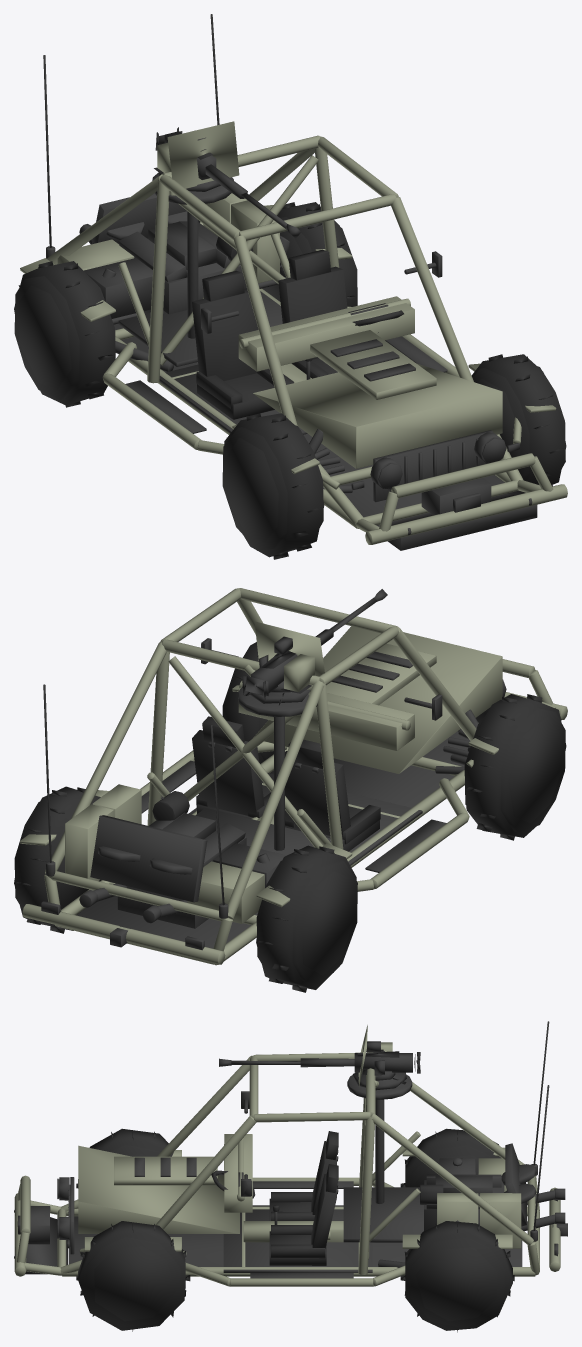
Rendered from buggy.glb.
3 renders of one model, top to bottom at view 1: azimuth 30°, elevation 25°; view 2: azimuth 150°, elevation 25°; view 3: azimuth 270°, elevation 25°, orthographic. The views are drawn at different scales.
Parts seen in each view (by area): view 1: body, wheel_fr, wheel_rr, wheel_fl, mg_turret, wheel_rl, mg_gun; view 2: body, wheel_fr, wheel_rr, wheel_rl, mg_gun, mg_turret, wheel_fl; view 3: body, wheel_rl, wheel_fl, wheel_rr, mg_gun, wheel_fr, mg_turret.
Part boxes in pixels (box(x1,y1,x2,y2)): body: box(20, 14, 567, 550); wheel_fr: box(222, 413, 324, 559); wheel_rr: box(14, 261, 115, 407); wheel_fl: box(471, 354, 566, 494); mg_turret: box(159, 121, 239, 191); wheel_rl: box(262, 202, 357, 306); mg_gun: box(154, 127, 301, 238); body: box(20, 588, 567, 965); wheel_fr: box(464, 694, 566, 840); wheel_rr: box(256, 845, 357, 992); wheel_rl: box(14, 786, 101, 933); mg_gun: box(242, 589, 387, 699); mg_turret: box(244, 621, 324, 705); wheel_fl: box(222, 642, 273, 772); body: box(14, 1021, 567, 1286); wheel_rl: box(400, 1221, 514, 1332); wheel_fl: box(76, 1221, 190, 1331); wheel_rr: box(400, 1128, 501, 1187); mg_gun: box(219, 1041, 420, 1073); wheel_fr: box(76, 1128, 173, 1188); mg_turret: box(353, 1025, 406, 1090).
Bounding box in the file's own units: 1.98 × 1.95 × 4.27.
